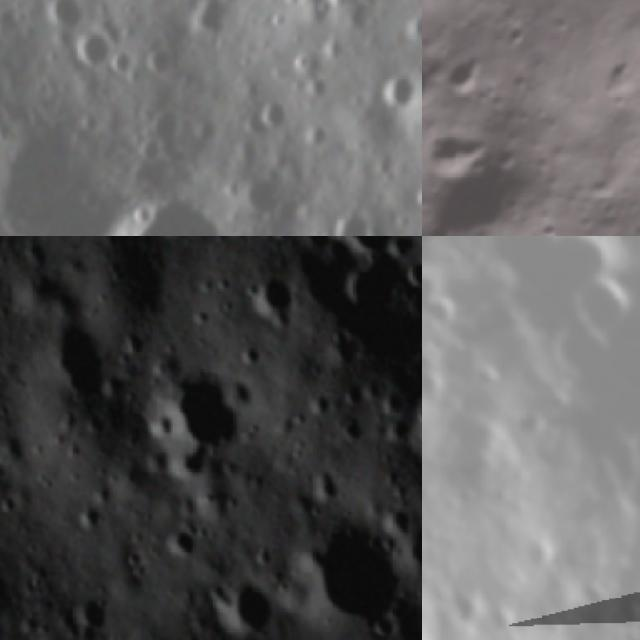crater: (483, 236, 640, 640), (92, 170, 329, 236), (422, 131, 556, 236), (304, 513, 410, 634), (555, 245, 640, 346), (162, 367, 245, 452), (422, 104, 499, 193), (46, 315, 116, 404), (435, 36, 507, 110), (508, 517, 574, 583), (216, 573, 282, 631), (66, 23, 127, 81), (332, 267, 396, 320), (422, 40, 453, 140), (29, 0, 98, 42), (250, 270, 304, 323), (61, 586, 114, 640), (253, 83, 297, 141), (315, 236, 403, 261), (372, 66, 418, 113), (322, 199, 380, 236), (103, 40, 143, 80), (170, 518, 207, 558)
